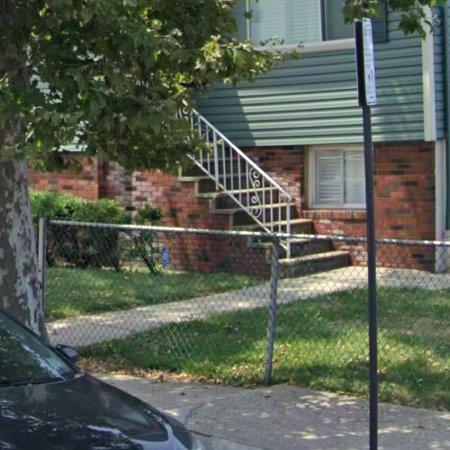stairs: (179, 112, 314, 234), (280, 240, 352, 278)
